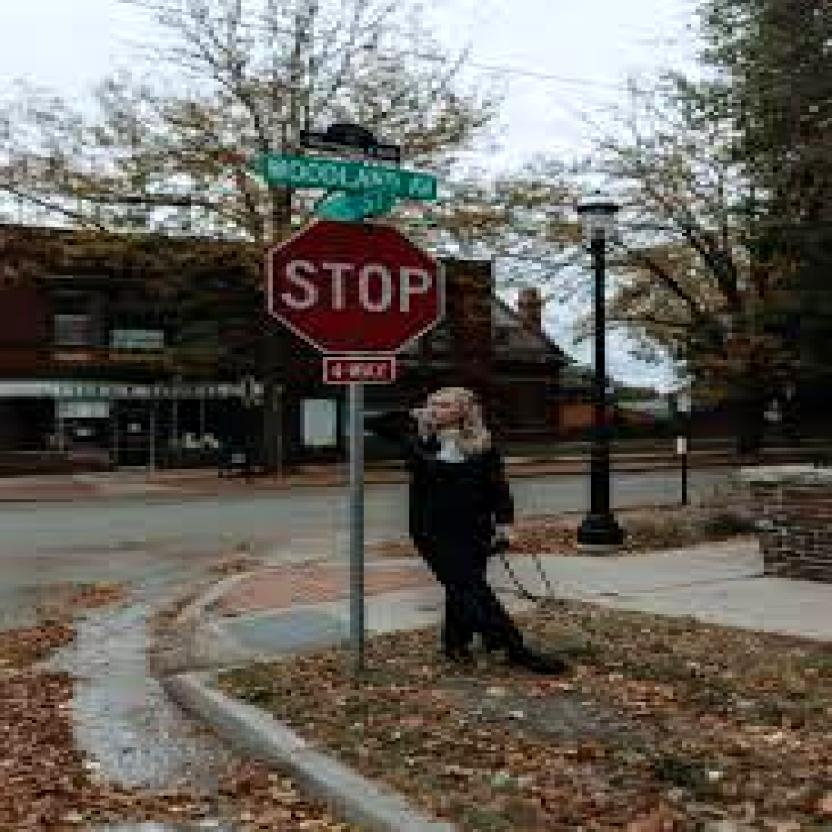Pole: (349, 385, 362, 673)
Sign: (259, 212, 450, 357)
